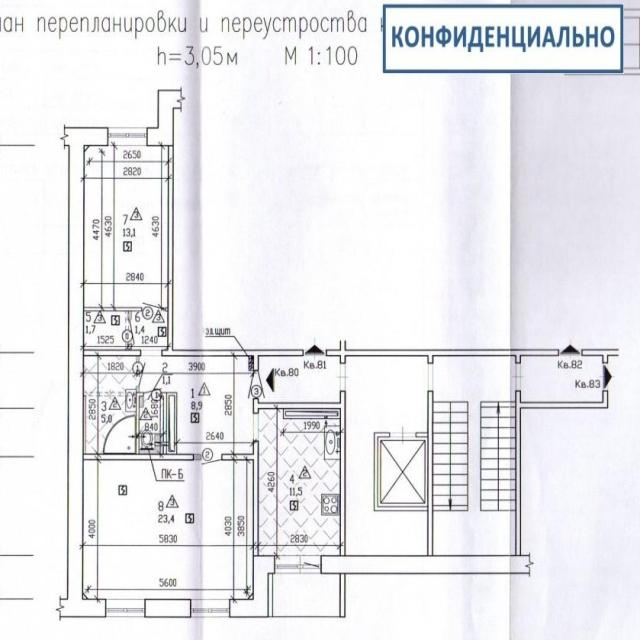Bathrooms: (85, 356, 136, 453), (139, 396, 163, 453)
Corridors: (346, 357, 428, 554), (140, 357, 253, 453), (259, 357, 340, 402), (522, 356, 602, 401), (273, 573, 339, 617), (84, 312, 128, 345), (132, 312, 167, 349)
Doors: (246, 370, 266, 400), (390, 425, 416, 444), (336, 363, 350, 391), (302, 556, 321, 574), (512, 363, 524, 390), (135, 361, 147, 386), (201, 454, 222, 467), (142, 301, 166, 312), (128, 320, 136, 346), (143, 387, 162, 396), (559, 349, 582, 356), (303, 349, 325, 356), (141, 349, 162, 356), (253, 413, 258, 441), (428, 363, 433, 390), (603, 363, 608, 390)
LBwalls: (55, 125, 109, 619), (320, 555, 533, 574), (229, 554, 276, 619), (146, 89, 186, 147), (144, 600, 191, 617)
Offices: (84, 460, 253, 599), (84, 147, 168, 307), (258, 409, 340, 556)
Stairs: (434, 357, 515, 554)
Walls: (161, 146, 304, 371), (515, 389, 609, 555), (253, 390, 346, 556), (326, 341, 559, 363), (373, 432, 428, 511), (221, 441, 259, 555), (416, 390, 434, 557), (162, 392, 177, 454), (84, 454, 201, 460), (581, 349, 619, 363), (136, 386, 143, 454), (84, 350, 141, 356), (339, 574, 345, 616), (84, 307, 142, 311), (268, 574, 273, 618), (84, 346, 132, 350), (128, 312, 132, 320)
Windows: (109, 127, 147, 147), (190, 599, 229, 618), (106, 599, 144, 618), (275, 556, 301, 574)
